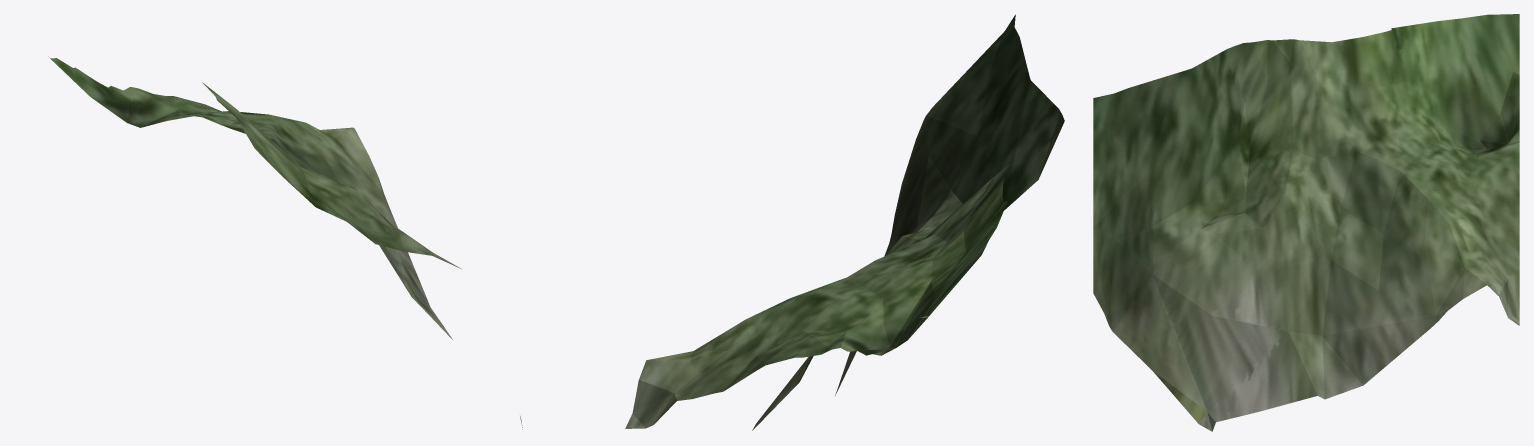
3 renders of one model, left to right at view 1: azimuth 30°, elevation 25°; view 2: azimuth 150°, elevation 25°; view 3: azimuth 270°, elevation 25°, orthographic. The views are drawn at different scales.
Bounding box in the file's own units: 2.08 × 2.22 × 2.95.
Materials: 2 (2 with a texture image).
